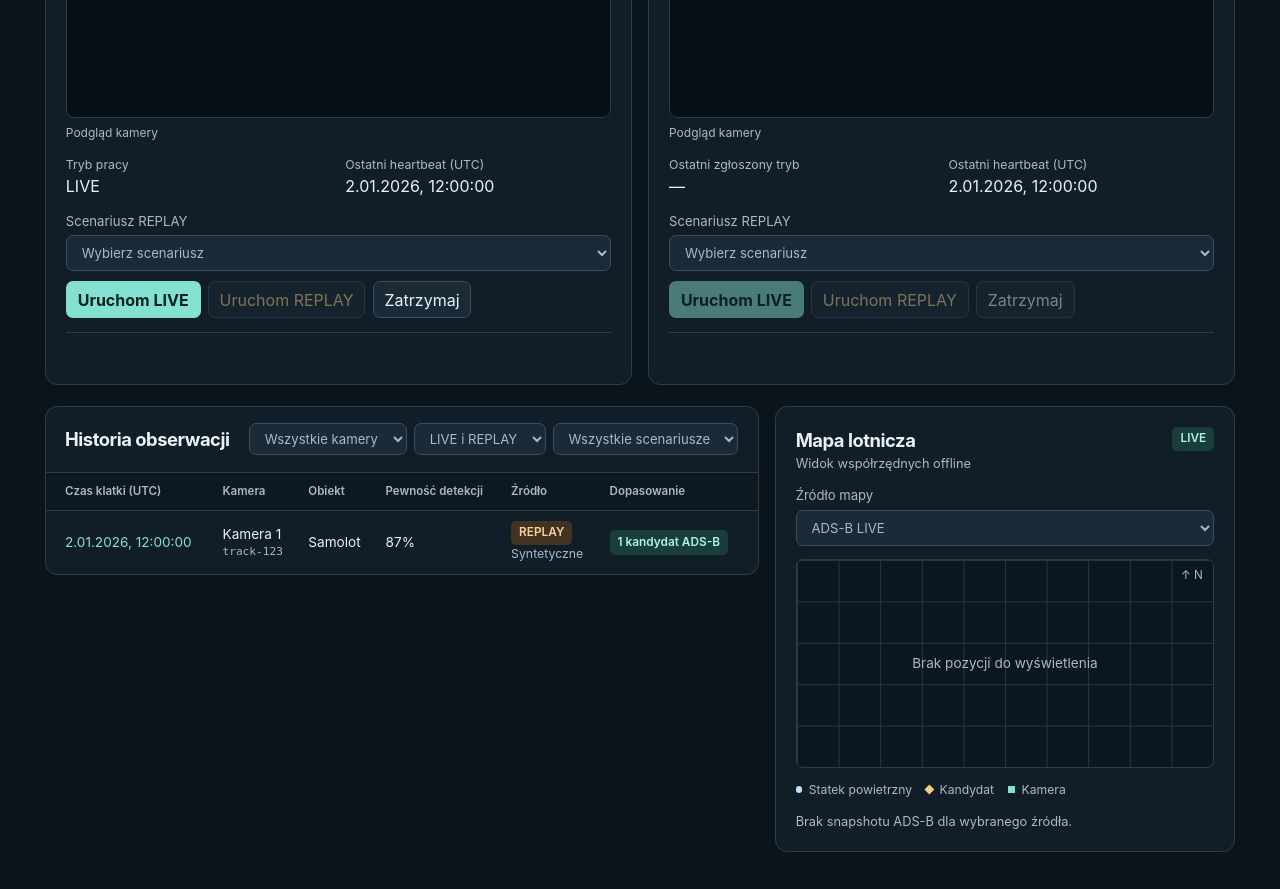
Test: dashboard › shows both camera states and opens synthetic candidate details
(page scrolled)
Expected: the text "87%" is shown, [376,511,501,574]
Click the button named "Otwórz obserwację first". click: (128, 542)
box: [65,530,192,555]
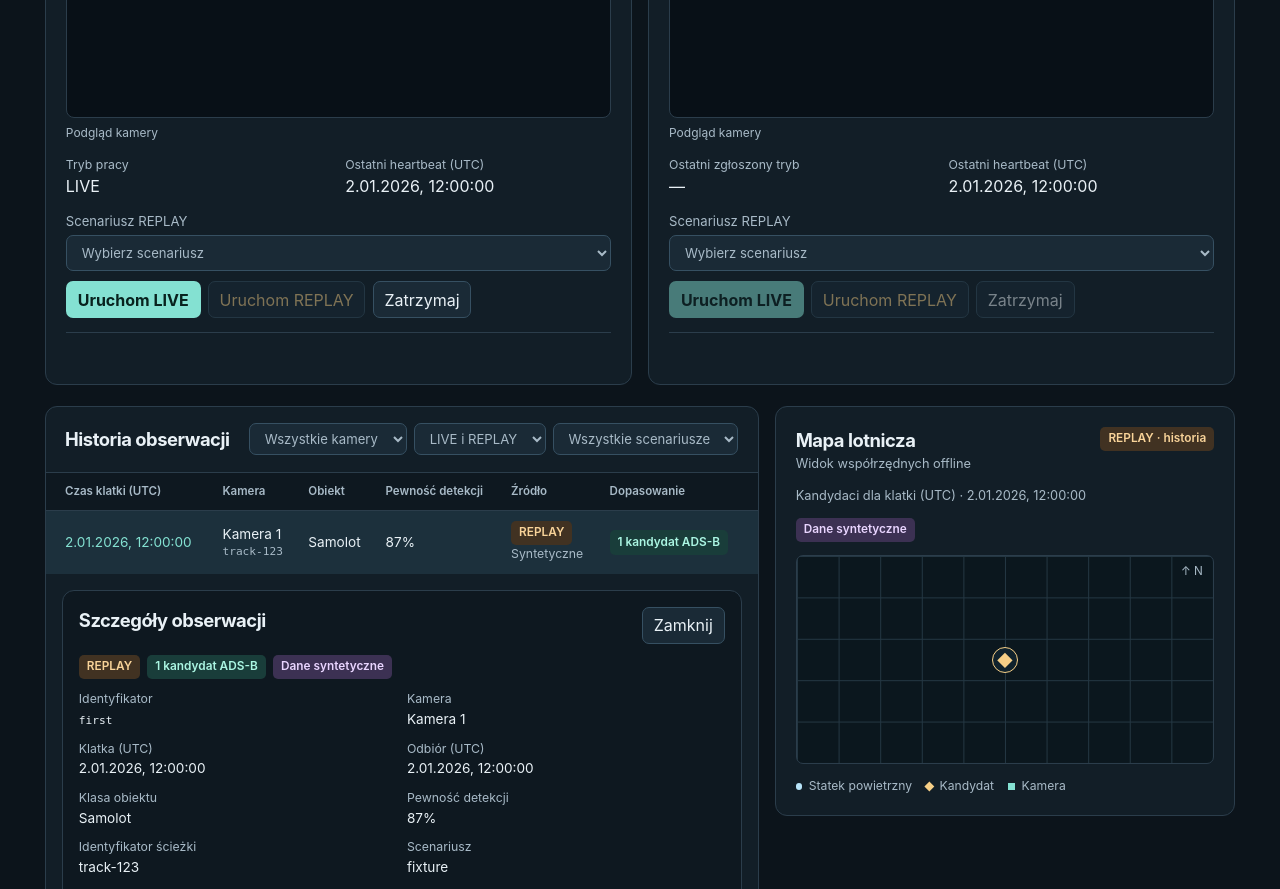
Now the text "Dane syntetyczne" below "Szczegóły obserwacji" is shown, box [281,659,384,673]
